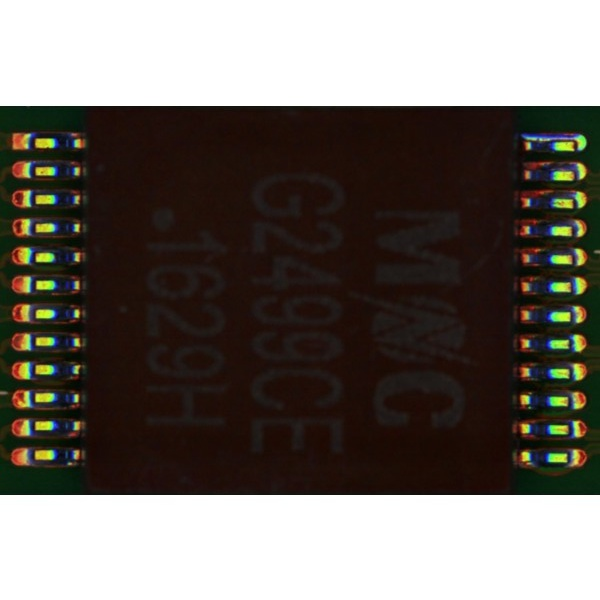Bad_qiaojiao: (522, 134, 571, 140)
